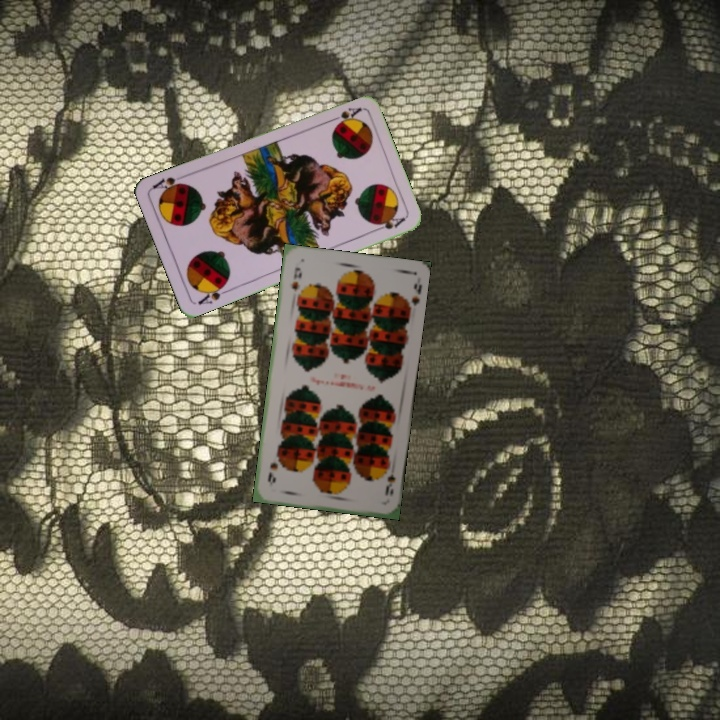S9: (381, 462, 398, 498), (287, 263, 304, 294)
SA: (194, 279, 232, 307), (325, 103, 364, 127)
